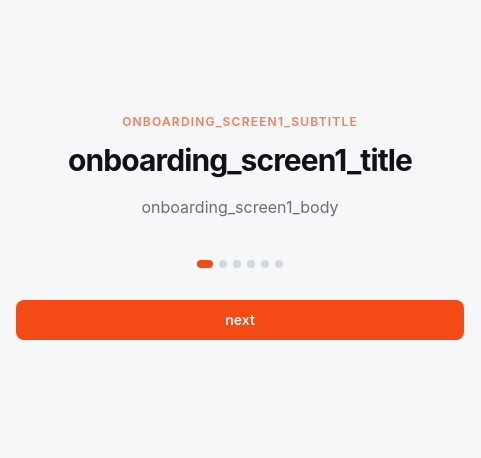
Test: OnboardingPage › keeps cloud completion gated while offering explicit local setup
What coordinates should you click on to do the following:
click the button named "Go to screen 6"
I would click on:
 (279, 264)
Its box is [275,260,283,268].
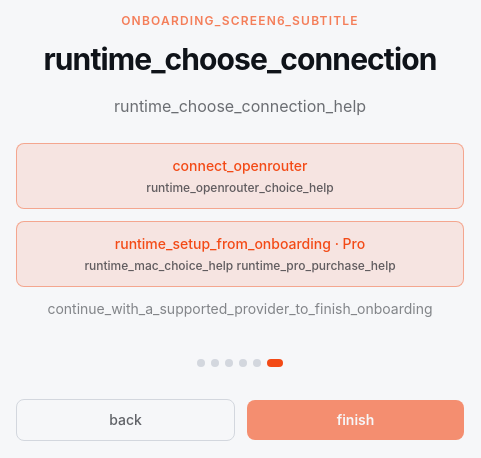
Check: the button "finish" is disabled, box [247,400,464,440]
Check: the text "continue_with_a_supported_provider_to_finish_onboarding" is shown, box [47,299,433,319]
